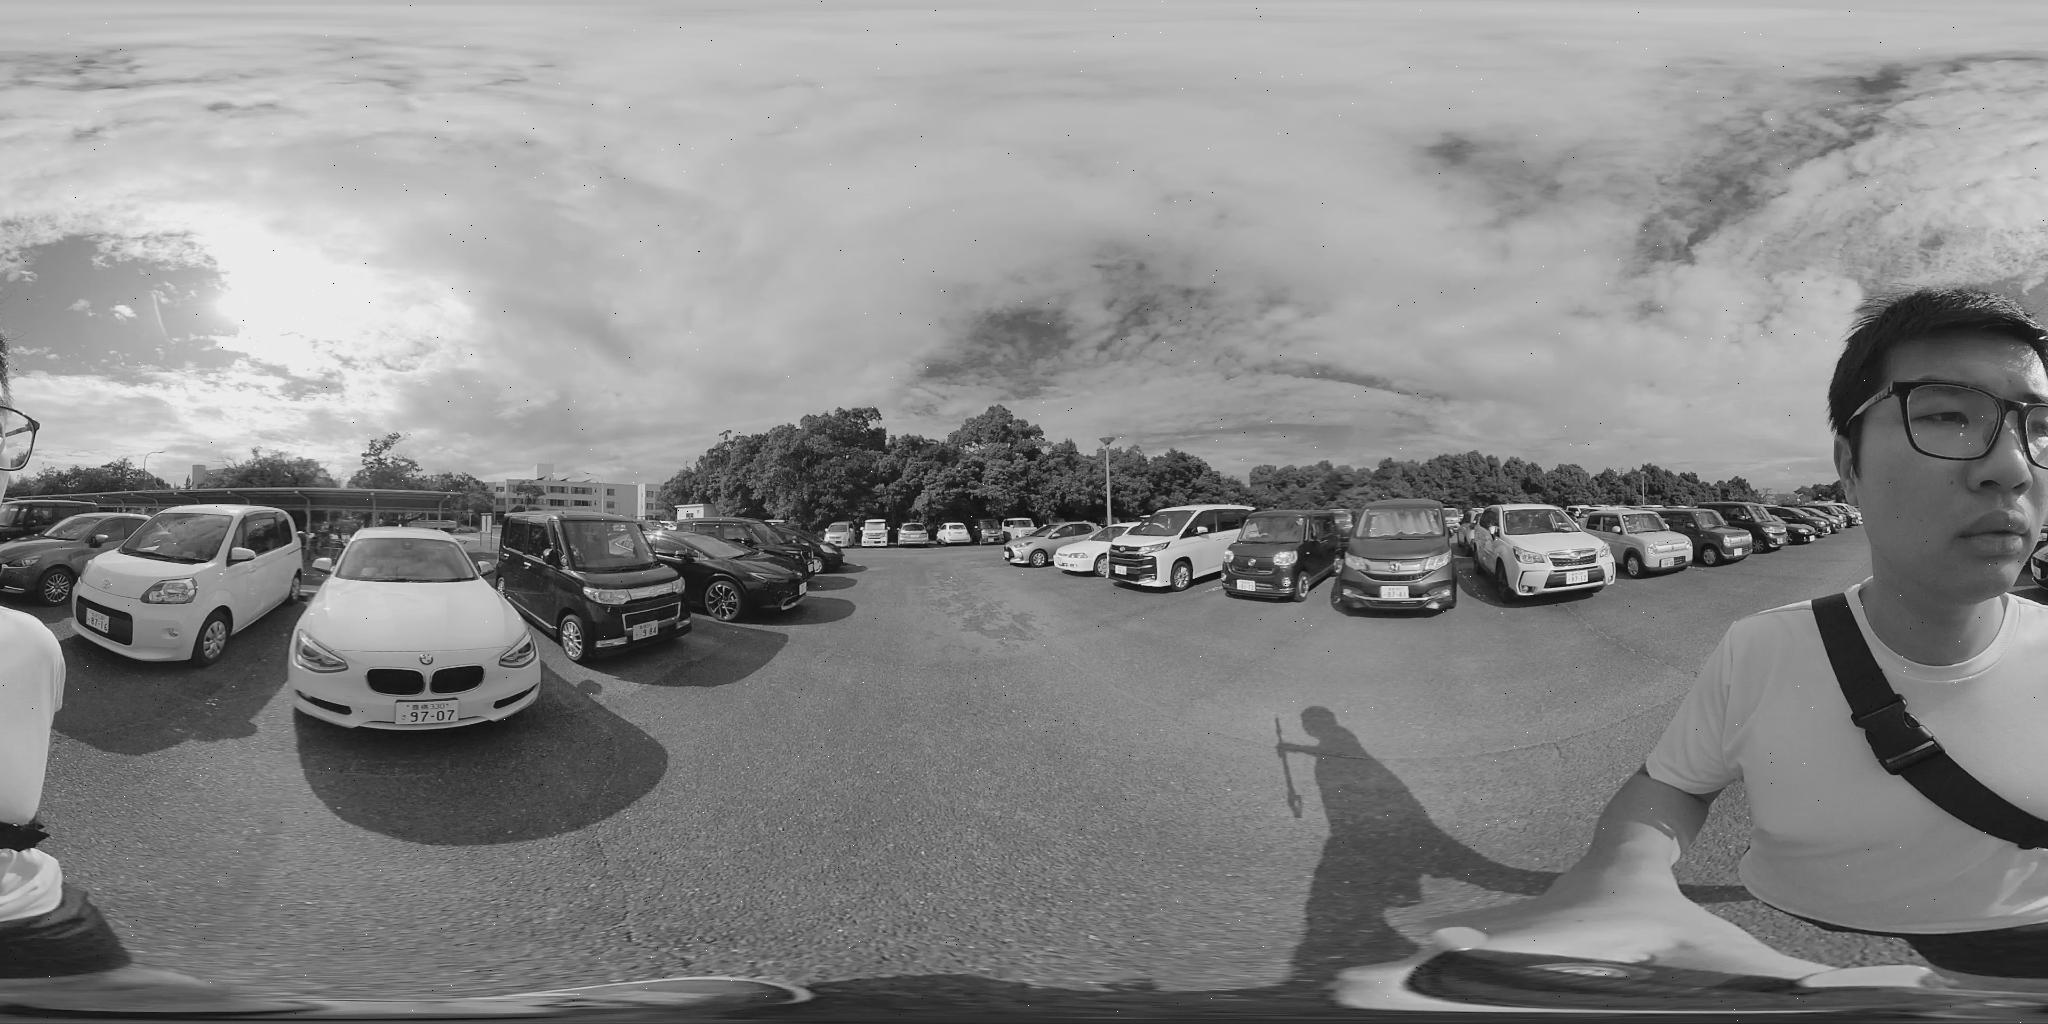car: (286, 525, 551, 731), (64, 505, 306, 666), (500, 513, 690, 660), (1455, 505, 1622, 605), (648, 524, 812, 618), (0, 509, 142, 602), (1344, 499, 1454, 613), (1104, 508, 1259, 588), (1221, 509, 1351, 601), (1579, 508, 1703, 573), (0, 498, 116, 562), (1650, 508, 1758, 563), (999, 522, 1112, 569), (1702, 505, 1806, 555), (1736, 508, 1825, 549), (1766, 503, 1839, 538), (1797, 502, 1865, 532)
